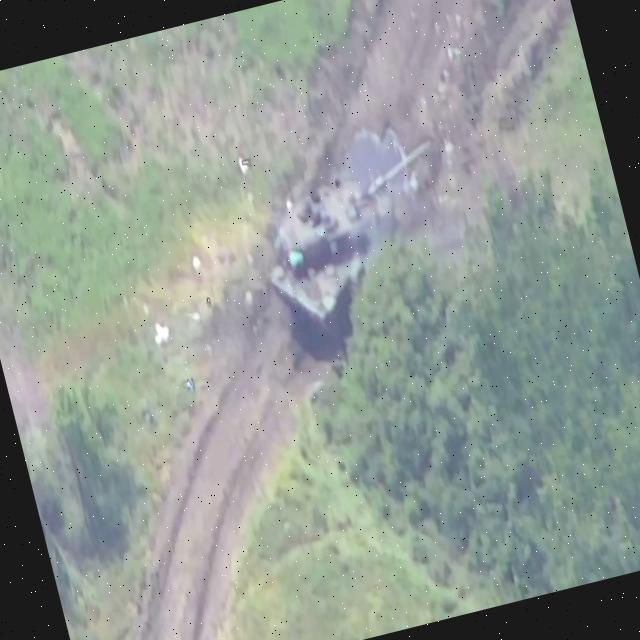MBT: (245, 139, 475, 353)
